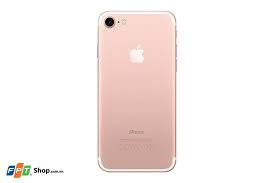iphone: (94, 8, 179, 173)
